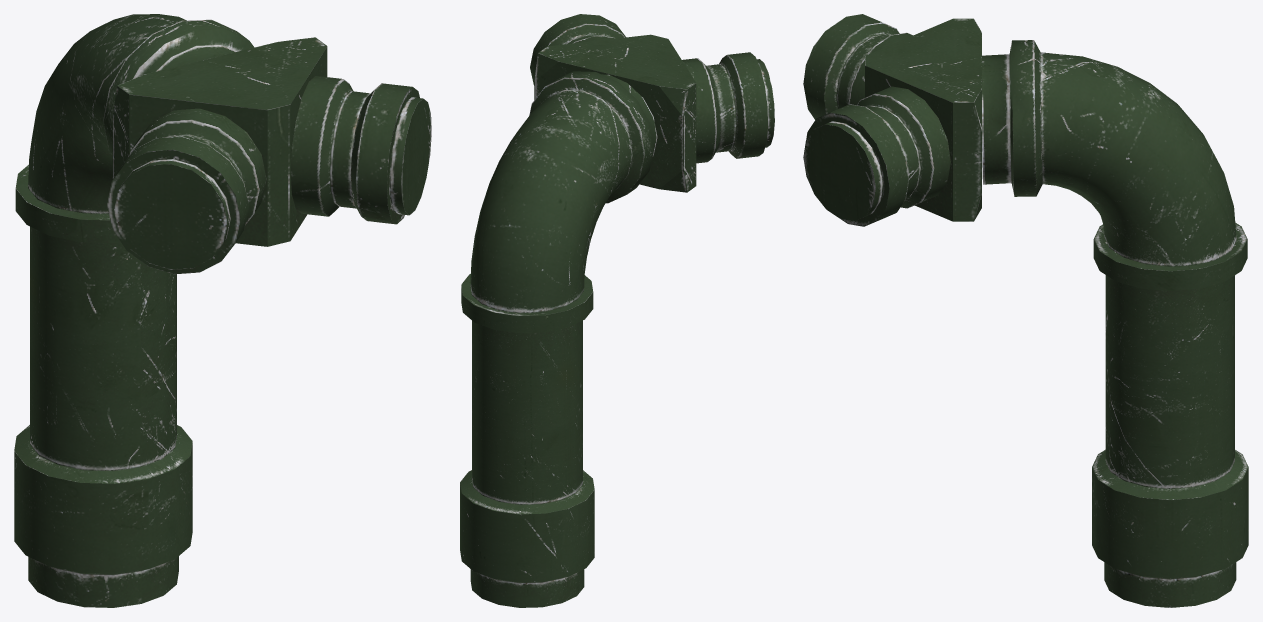
File: prp_fireHydrant_B.fbx
3 views of the same model, side by side, from view 1: azimuth 30°, elevation 25°; view 2: azimuth 150°, elevation 25°; view 3: azimuth 270°, elevation 25° (orthographic). The views are drawn at different scales.
Parts seen in each view (by area): view 1: prp_fireHydrant_B_LOD0; view 2: prp_fireHydrant_B_LOD0; view 3: prp_fireHydrant_B_LOD0.
Part boxes in pixels (bbox=[...]): prp_fireHydrant_B_LOD0: bbox=[14, 14, 431, 607]; prp_fireHydrant_B_LOD0: bbox=[460, 14, 774, 607]; prp_fireHydrant_B_LOD0: bbox=[803, 14, 1248, 607].
Bounding box in the file's own units: 96.65 × 178 × 135.
